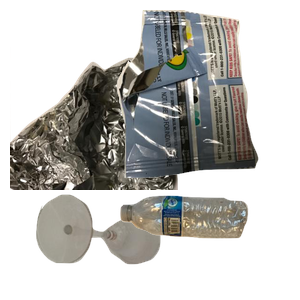glass: (34, 192, 187, 300)
metal: (10, 47, 216, 227)
plastic: (118, 193, 300, 300)
trash: (114, 10, 300, 180)
